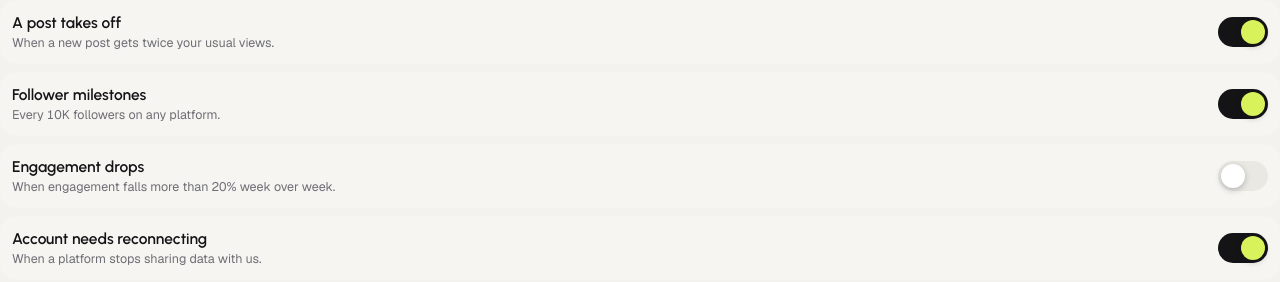
Test: AlertSettings › stores each switch
Click the switch named "Engagement drops": (1243, 176) [1218,154,1268,198]
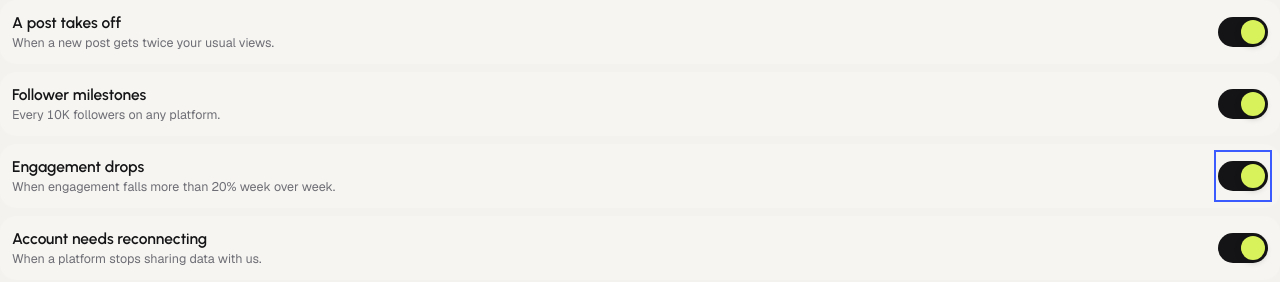
Result: the switch named "Engagement drops" is checked at [1218,154,1268,198]
